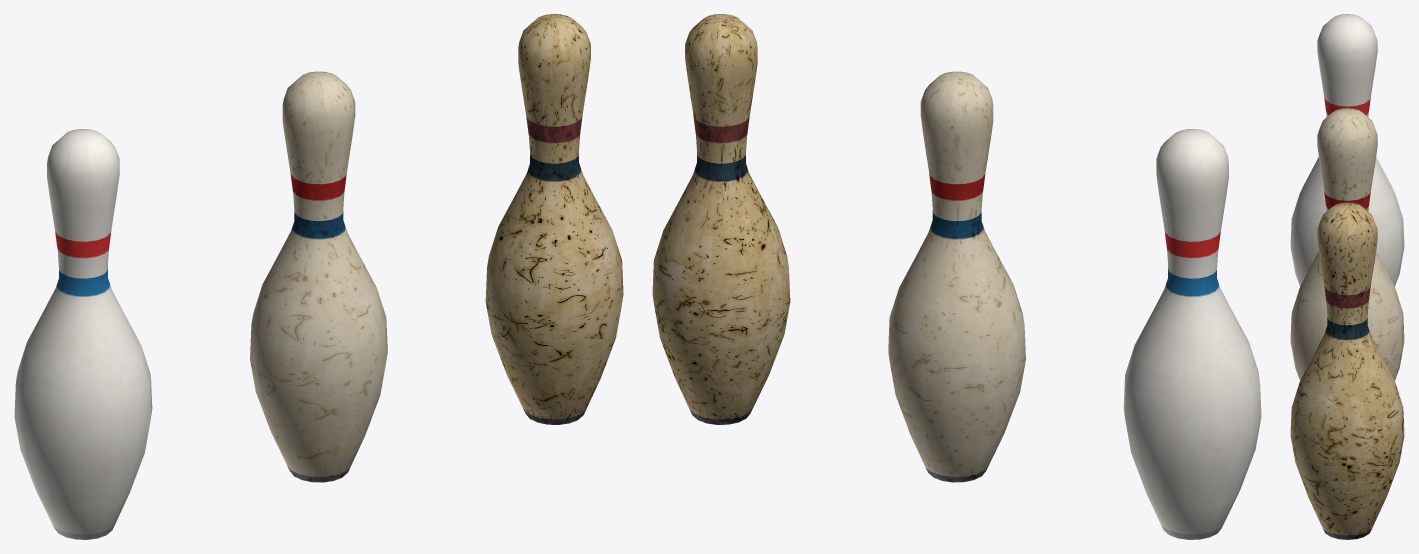
File: bowlingpins_individual.fbx
The picture shows the model from 3 angles, left to right: view 1: azimuth 30°, elevation 25°; view 2: azimuth 150°, elevation 25°; view 3: azimuth 270°, elevation 25°; orthographic projection. The views are drawn at different scales.
Parts seen in each view (by area): view 1: bowlingpins2, bowlingpins1, bowlingpins3; view 2: bowlingpins2, bowlingpins1, bowlingpins3; view 3: bowlingpins3, bowlingpins2, bowlingpins1.
Boxes of the visible parts, x1,y1,x2,y2 form: bowlingpins2: [250, 71, 387, 482]; bowlingpins1: [14, 129, 152, 539]; bowlingpins3: [485, 14, 623, 424]; bowlingpins2: [888, 71, 1025, 482]; bowlingpins1: [1123, 129, 1261, 539]; bowlingpins3: [652, 14, 790, 424]; bowlingpins3: [1290, 202, 1404, 539]; bowlingpins2: [1290, 108, 1404, 380]; bowlingpins1: [1290, 14, 1404, 286].
Size of the model in its own units: 59.59 by 38.08 by 12.13.
Materials: 3 (3 with a texture image).
